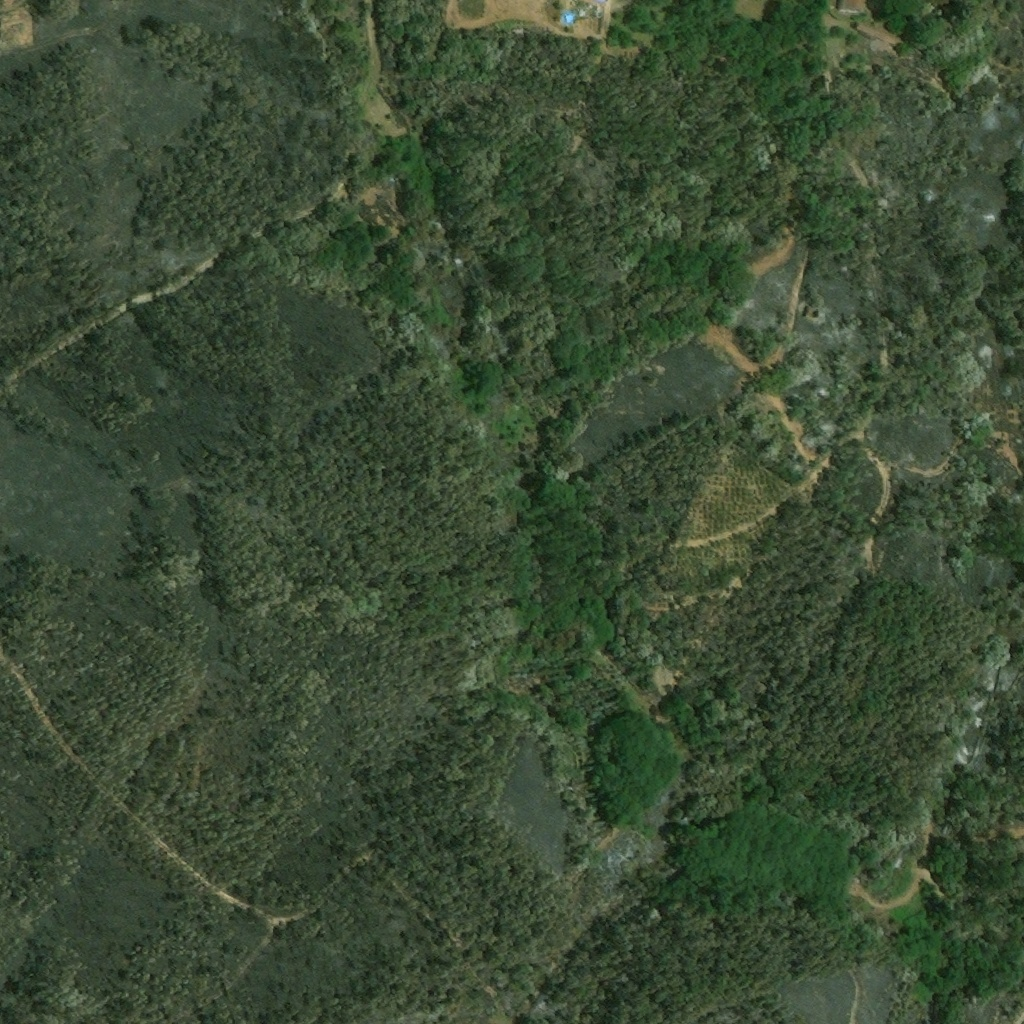4 un-classified: (839, 0, 864, 11), (579, 0, 605, 5)
